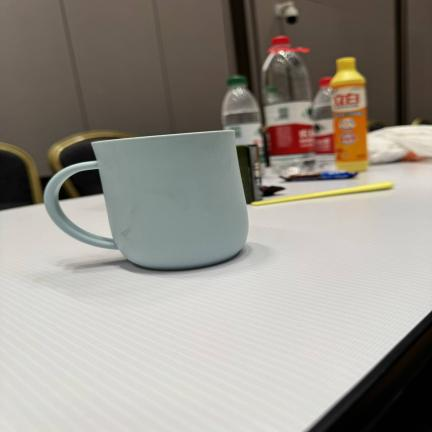cup: (44, 131, 248, 270)
